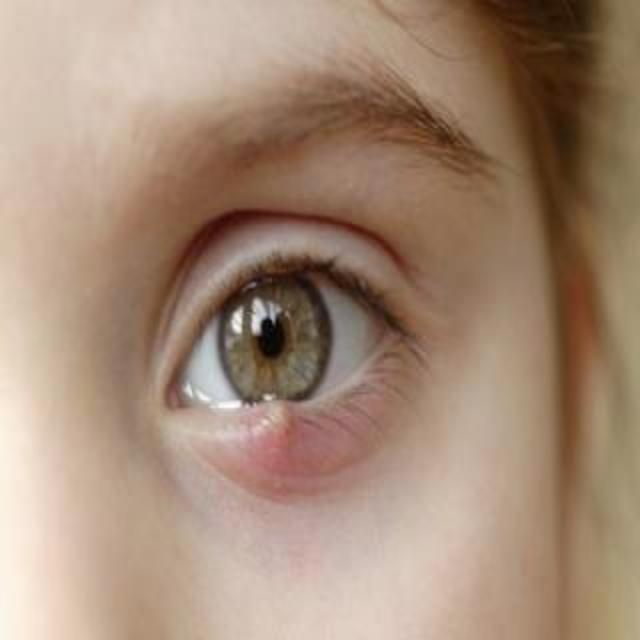Stye: (186, 356, 336, 506)
